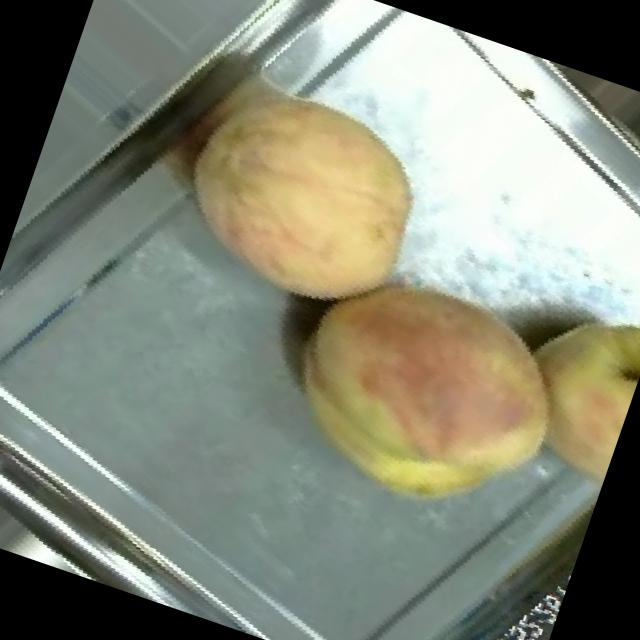Fruit: (218, 191, 634, 581), (113, 12, 497, 381)
